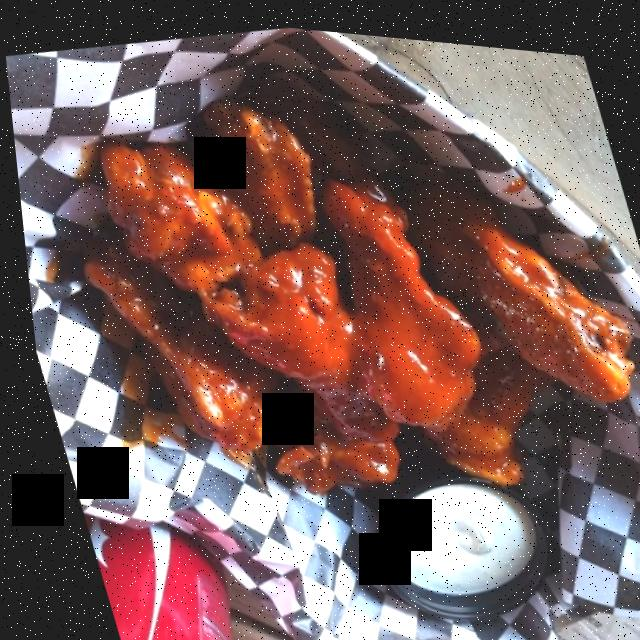Frango: (33, 227, 258, 498), (295, 175, 501, 447), (450, 176, 630, 408)
